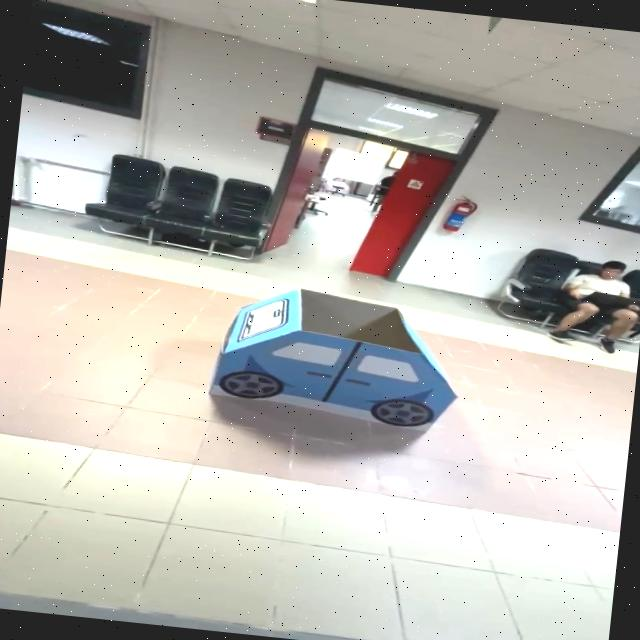blue_car: (190, 274, 487, 448)
